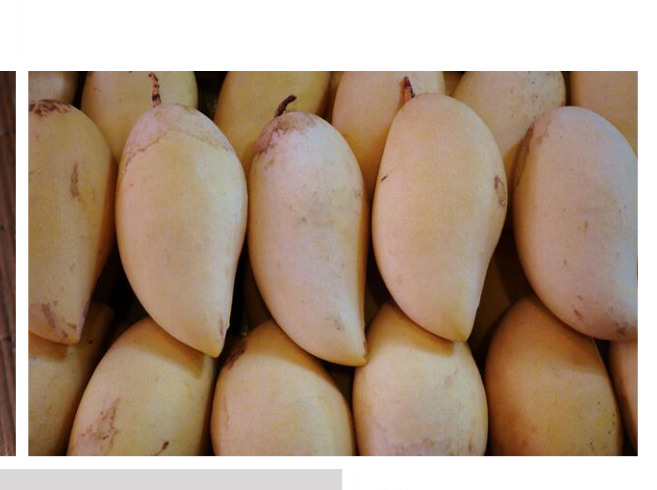mango: (371, 92, 507, 344), (242, 108, 372, 367), (116, 104, 248, 358), (520, 106, 639, 338)
